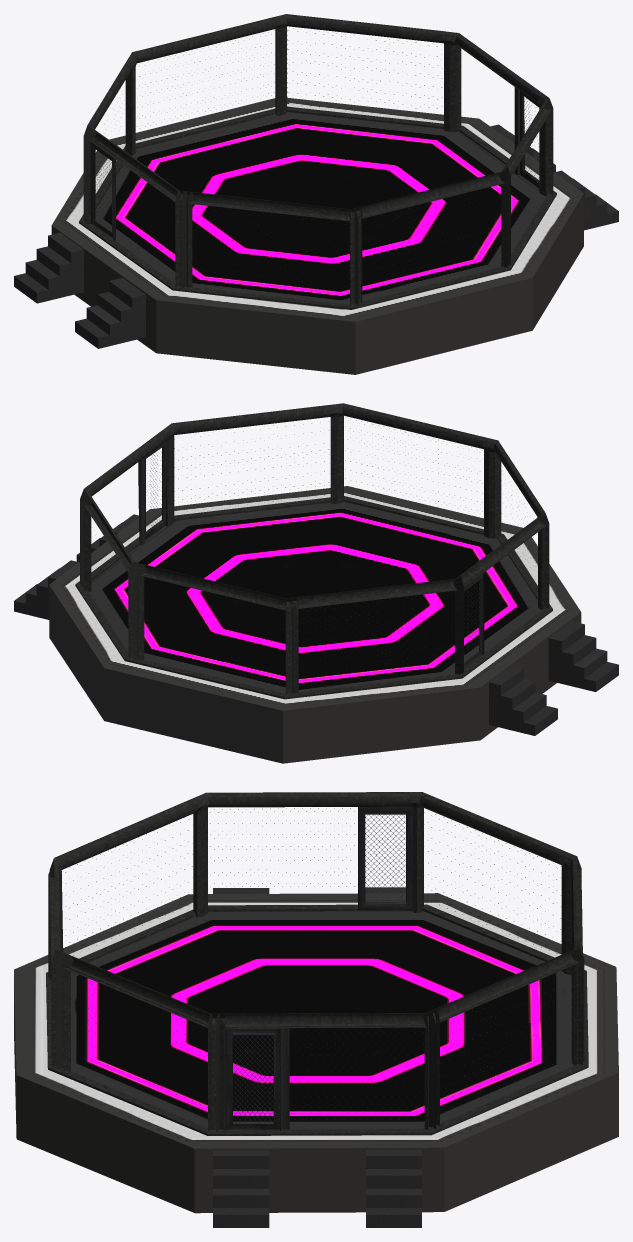
File: RingNewLATEST.fbx
The picture shows the model from 3 angles, top to bottom: view 1: azimuth 30°, elevation 25°; view 2: azimuth 150°, elevation 25°; view 3: azimuth 270°, elevation 25°; orthographic projection. The views are drawn at different scales.
Parts seen in each view (by area): view 1: polySurface8, polySurface461, polySurface462, polySurface466, polySurface436, polySurface465, polySurface464, polySurface438, polySurface463; view 2: polySurface8, polySurface464, polySurface463, polySurface438, polySurface462, polySurface466, polySurface436, polySurface465, polySurface461; view 3: polySurface8, polySurface466, polySurface462, polySurface438, polySurface465, polySurface461, polySurface463, polySurface436, polySurface464.
Boxes of the visible parts, x1,y1,x2,y2 form: polySurface8: (14,97,618,374); polySurface461: (182,191,357,305); polySurface462: (84,127,187,288); polySurface466: (449,32,545,193); polySurface436: (354,168,510,305); polySurface465: (281,14,452,131); polySurface464: (130,15,282,147); polySurface438: (503,96,553,264); polySurface463: (83,55,135,221); polySurface8: (14,486,618,763); polySurface464: (133,563,292,694); polySurface463: (292,577,462,693); polySurface438: (168,404,337,523); polySurface462: (457,510,549,673); polySurface466: (80,426,172,586); polySurface436: (336,403,492,537); polySurface465: (81,491,140,659); polySurface461: (487,439,543,551); polySurface8: (14,887,618,1227); polySurface466: (217,1011,434,1131); polySurface462: (201,792,418,915); polySurface438: (57,952,220,1131); polySurface465: (428,945,583,1128); polySurface461: (49,795,204,955); polySurface463: (416,792,571,973); polySurface436: (48,861,66,1068); polySurface464: (564,854,584,1060).
Size of the model in its own units: 879 by 243 by 729.
